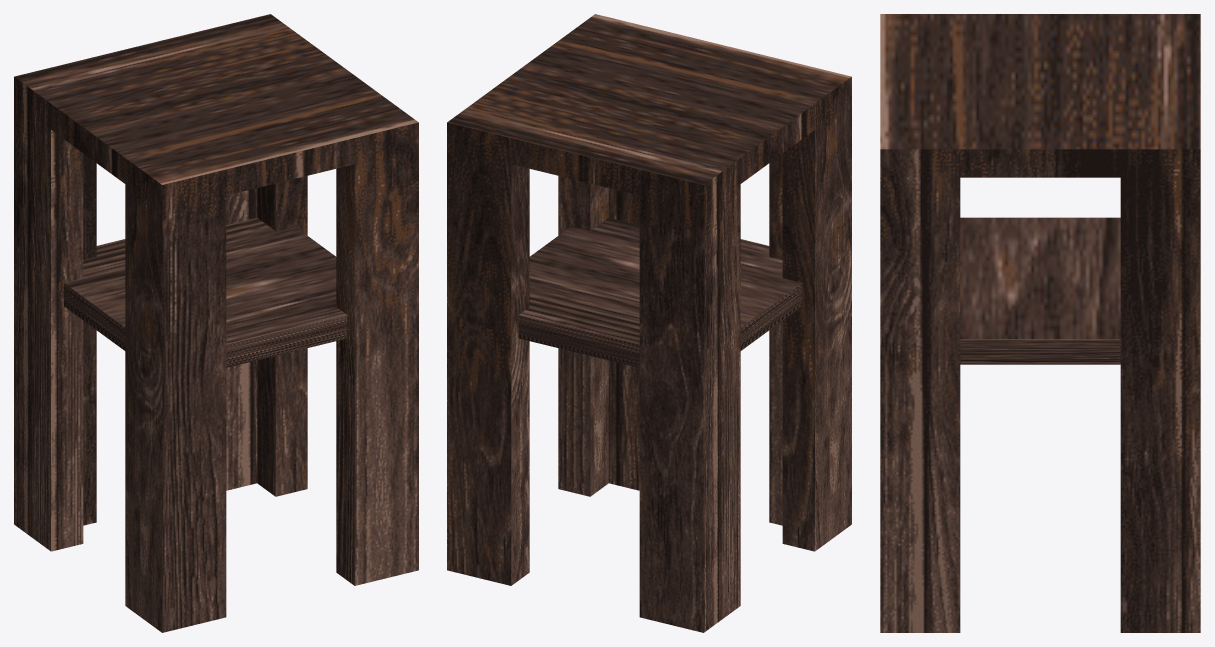
Rendered from stool.fbx.
3 views of the same model, side by side, from view 1: azimuth 30°, elevation 25°; view 2: azimuth 150°, elevation 25°; view 3: azimuth 270°, elevation 25° (orthographic). The views are drawn at different scales.
Visible parts, largest first — view 1: Cube; view 2: Cube; view 3: Cube.
Boxes of the visible parts, x1,y1,x2,y2 form: Cube: (14, 14, 418, 632); Cube: (447, 14, 851, 632); Cube: (880, 14, 1200, 632).
Bounding box in the file's own units: 200 × 334 × 200.
